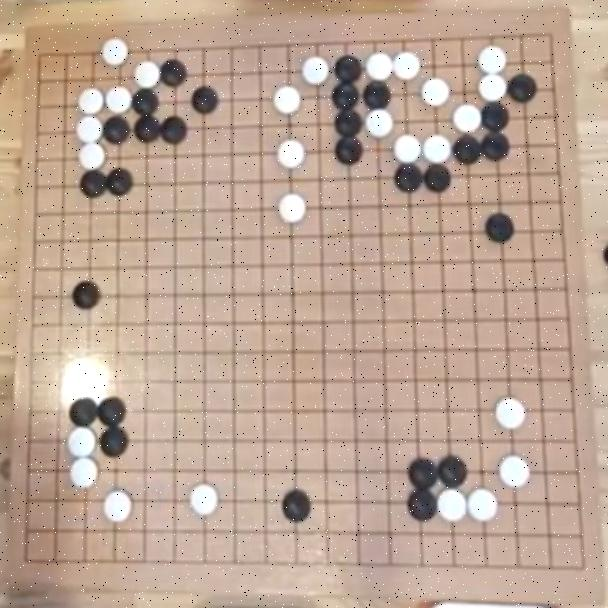corners: (534, 20, 560, 52), (570, 554, 592, 582), (19, 547, 40, 575), (33, 42, 51, 72)
